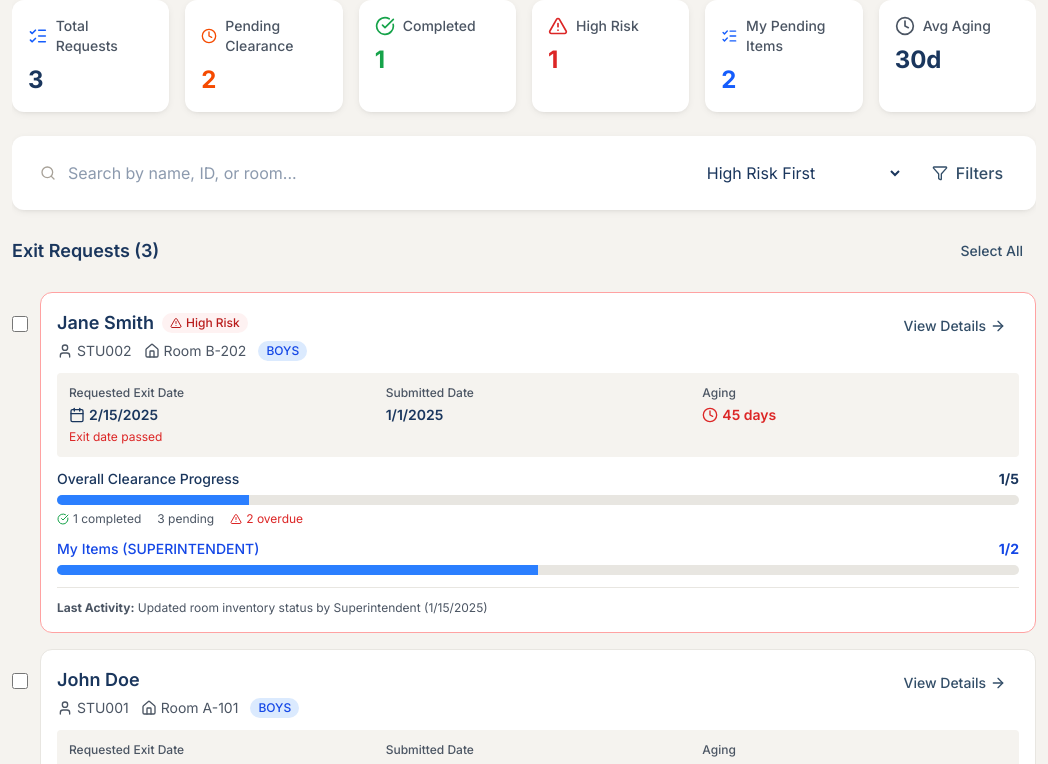
Test: Task 20.3 - Admin Clearance Dashboards › ExitDashboard Component › should show bulk action button when requests selected
Step 1. Click the checkbox next to "Jane Smith" → (20, 324), box [12,316,28,332]
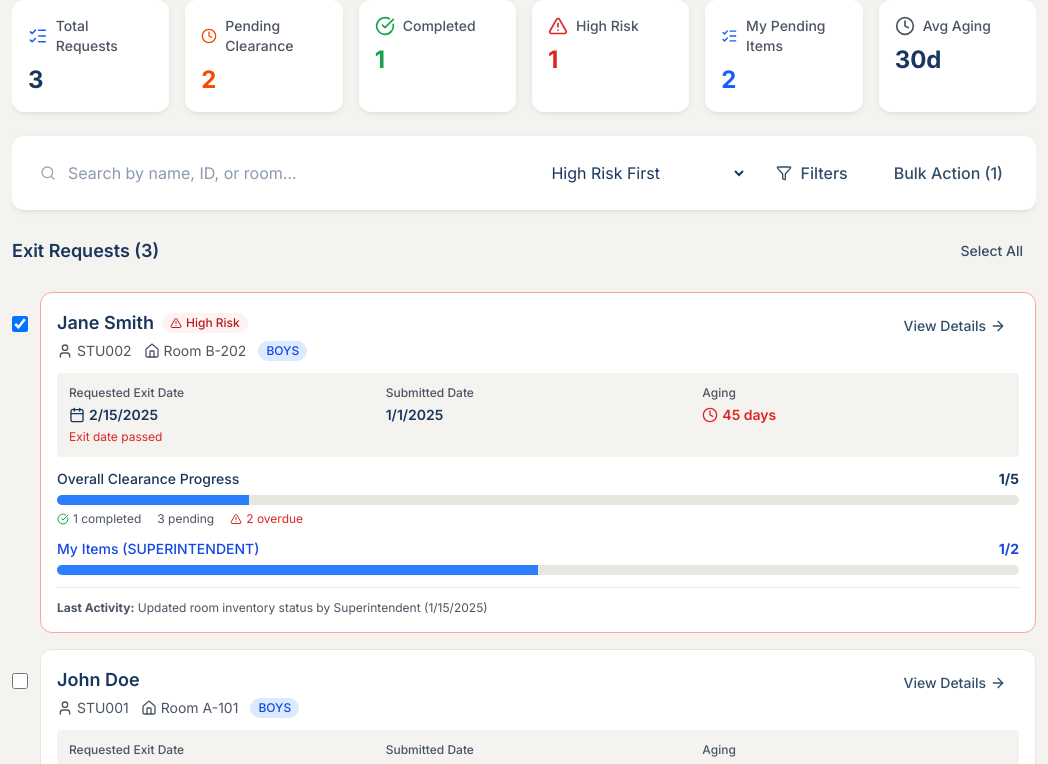
Expected: the text "Bulk Action (1)" is shown, [894,161,1003,185]
